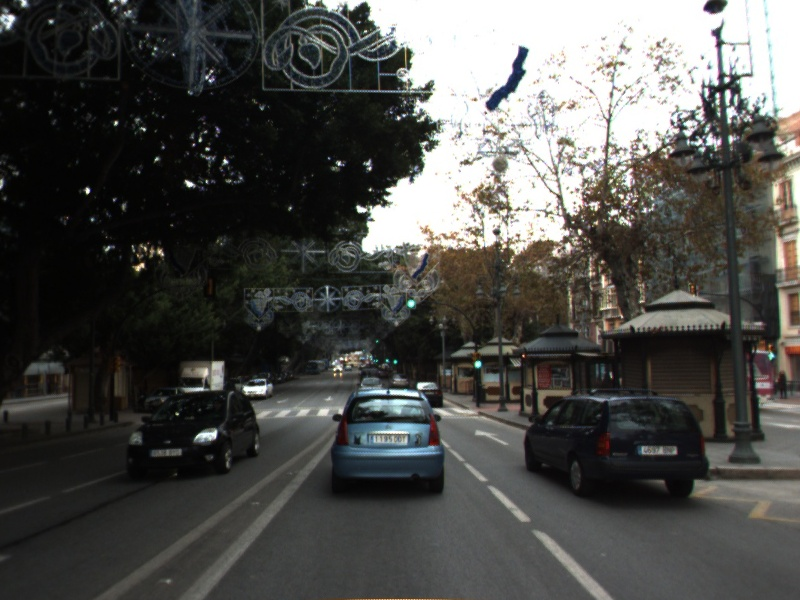STRAIGHT: (473, 427, 512, 447)
